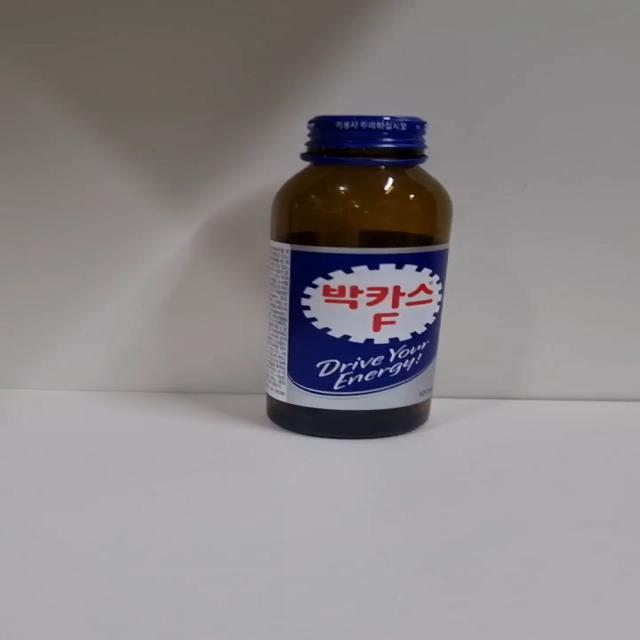Glass: (263, 115, 454, 442)
